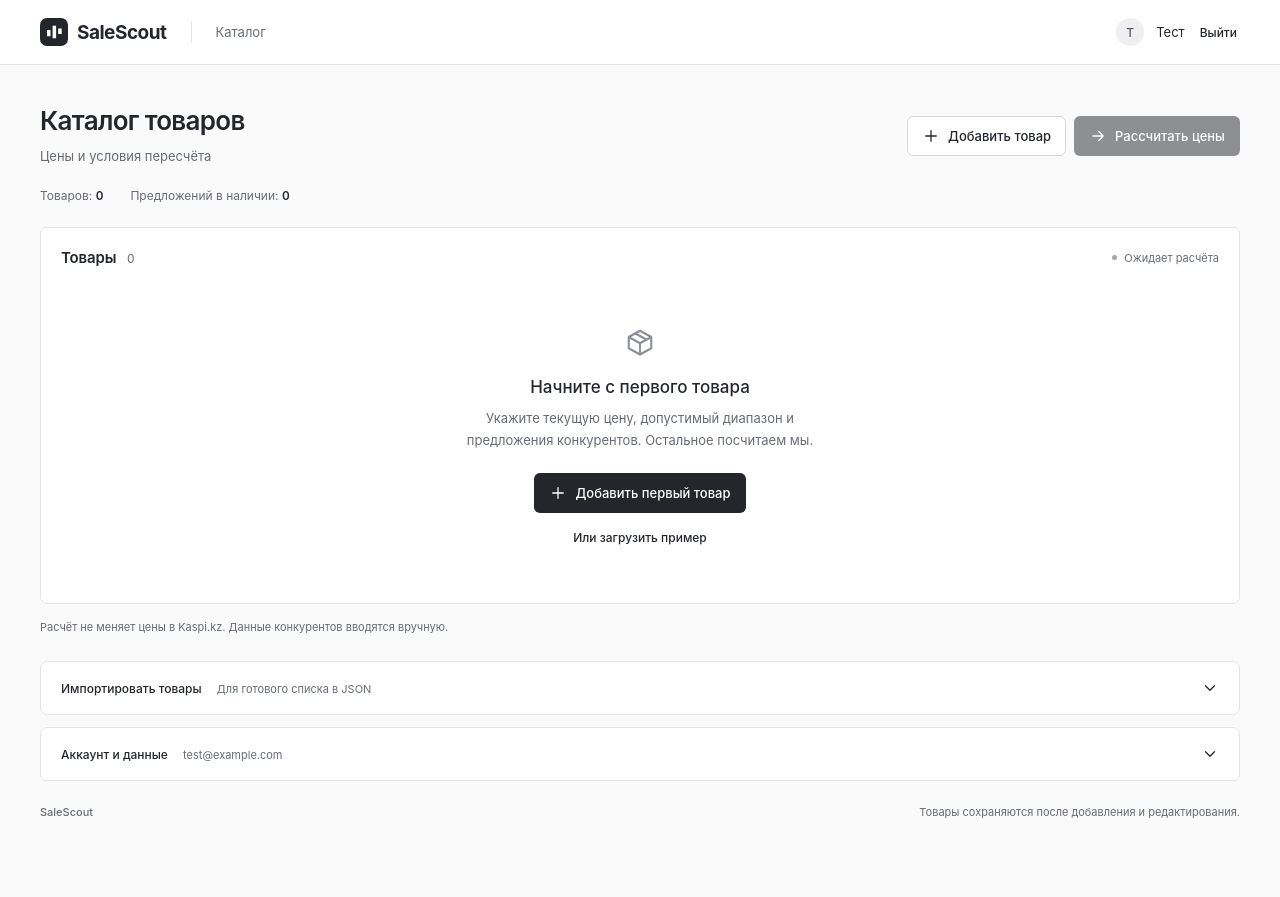
Scenario: Product workspace › keeps the form and original catalog when saving fails
Click the button "Добавить товар" at coordinates (986, 136), box [907, 116, 1066, 156]
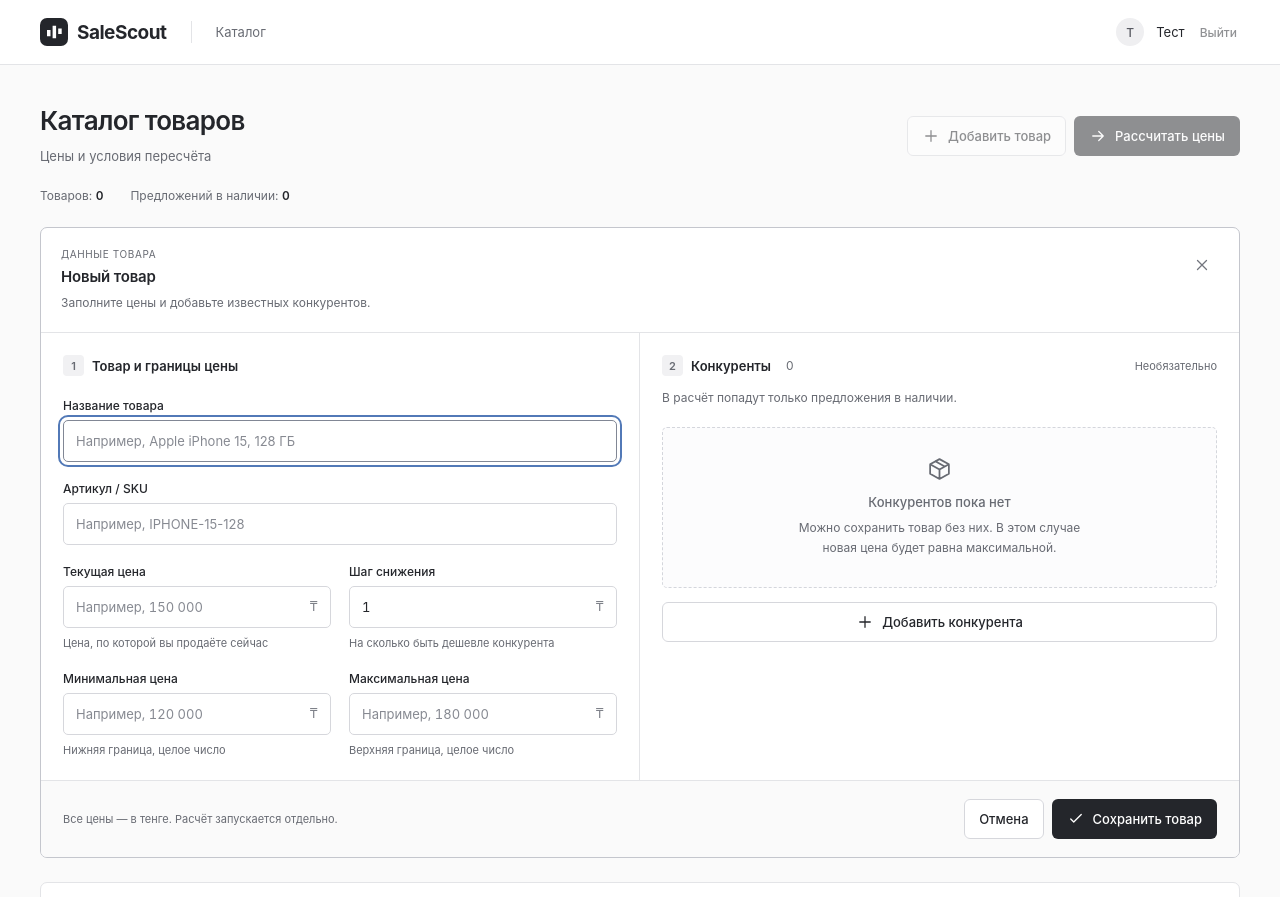
Type "Мой телефон" into the field labelled "Название товара" at coordinates (340, 442), box [63, 420, 617, 462]
Type "MY-001" into the field labelled "Артикул / SKU" at coordinates (340, 524), box [63, 504, 617, 546]
Type "150 000,5" into the field labelled "Текущая цена ₸ Цена, по которой вы продаёте сейчас" at coordinates (197, 608), box [63, 586, 331, 628]
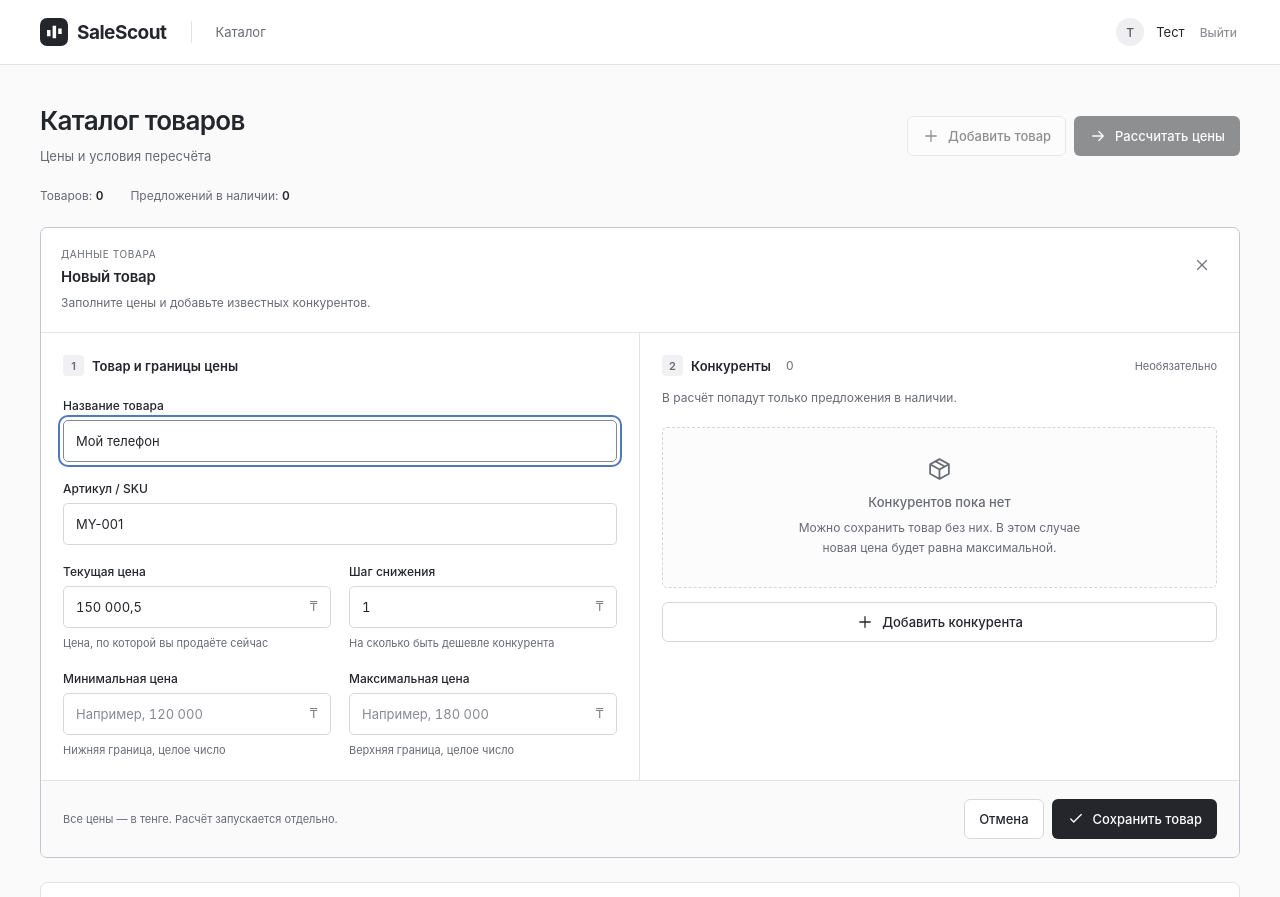
Type "100000" into the field labelled "Минимальная цена ₸ Нижняя граница, целое число" at coordinates (197, 714), box [63, 693, 331, 735]
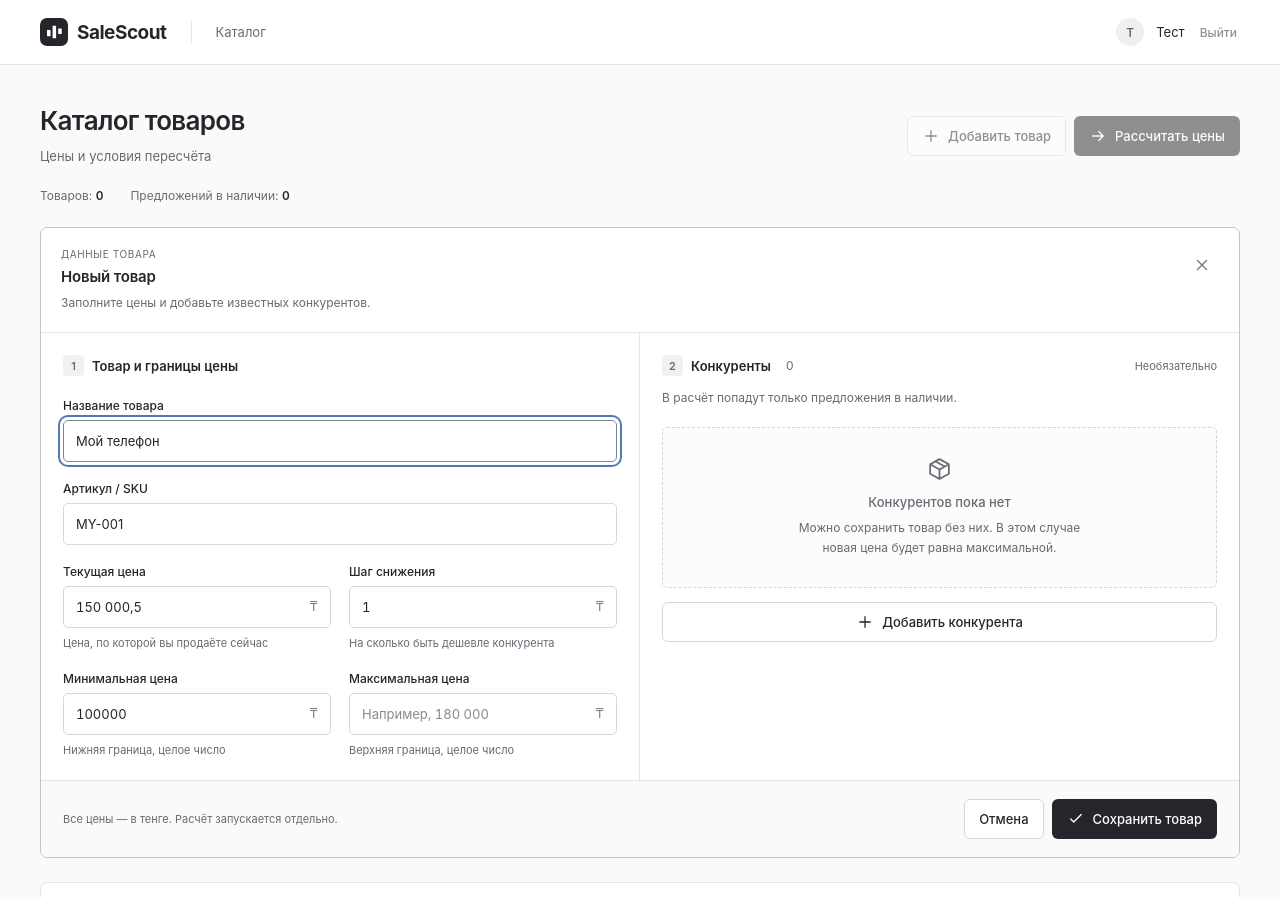
Type "200000" into the field labelled "Максимальная цена ₸ Верхняя граница, целое число" at coordinates (483, 714), box [349, 693, 617, 735]
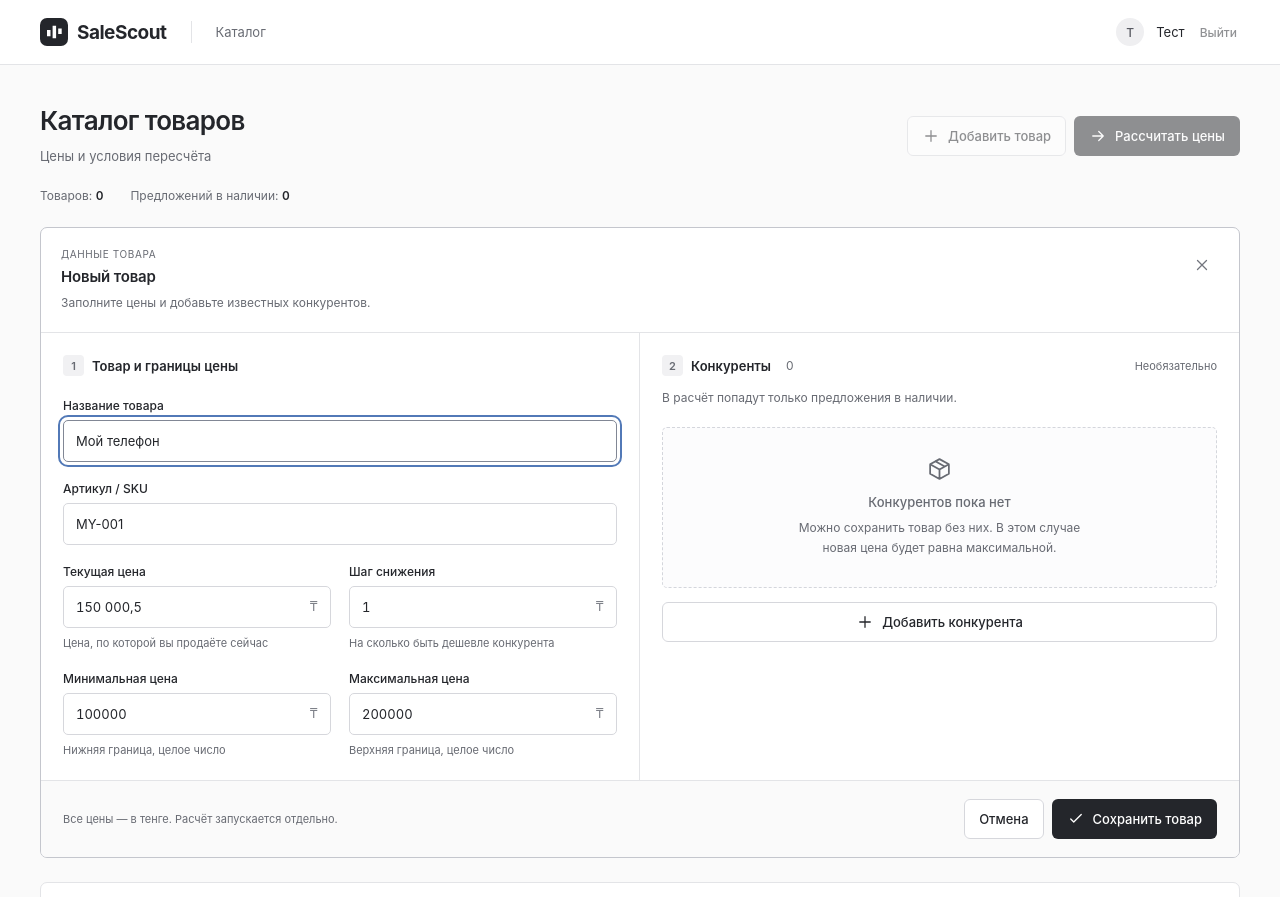
Replace the text in the field labelled "Шаг снижения ₸ На сколько быть дешевле конкурента" with "0,5" at coordinates (483, 608), box [349, 586, 617, 628]
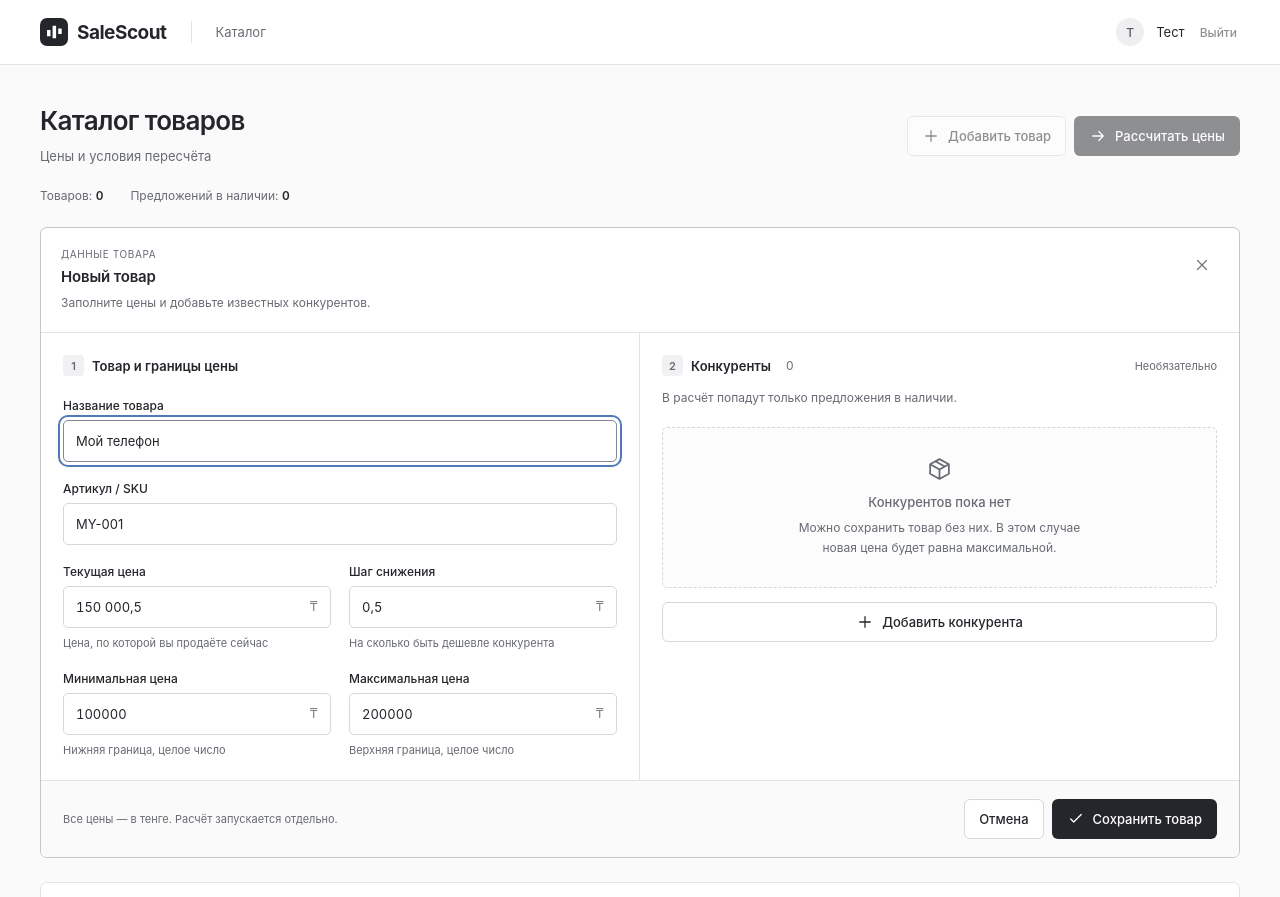
Submit the form named "Форма товара", box [41, 334, 1239, 858]
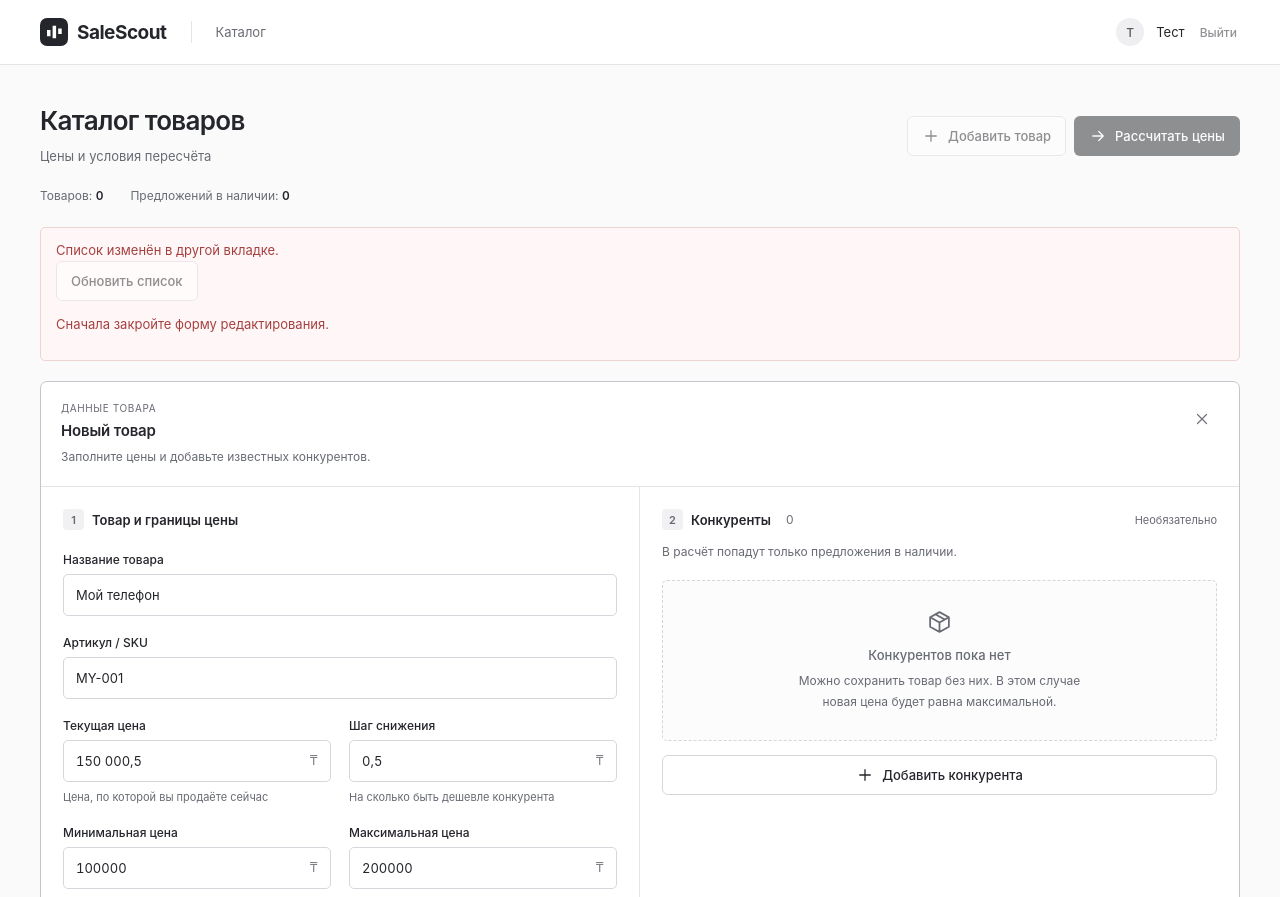
Expected: the message is shown, [40, 227, 1240, 361]
